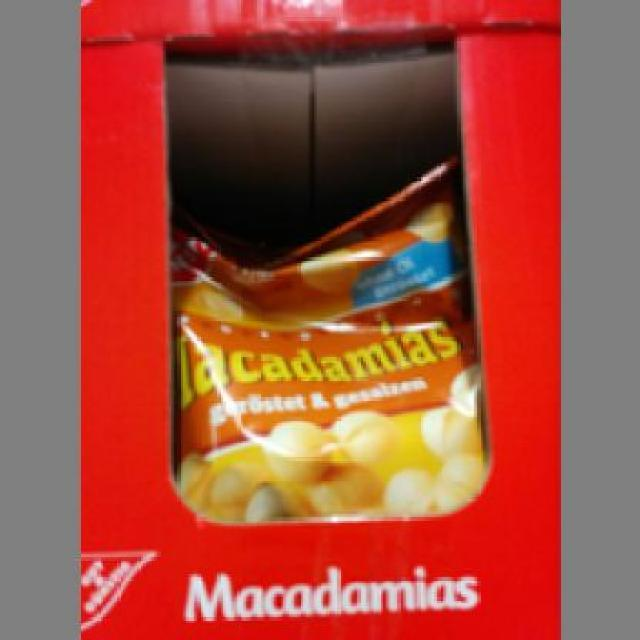Nuts: (168, 160, 488, 520)
